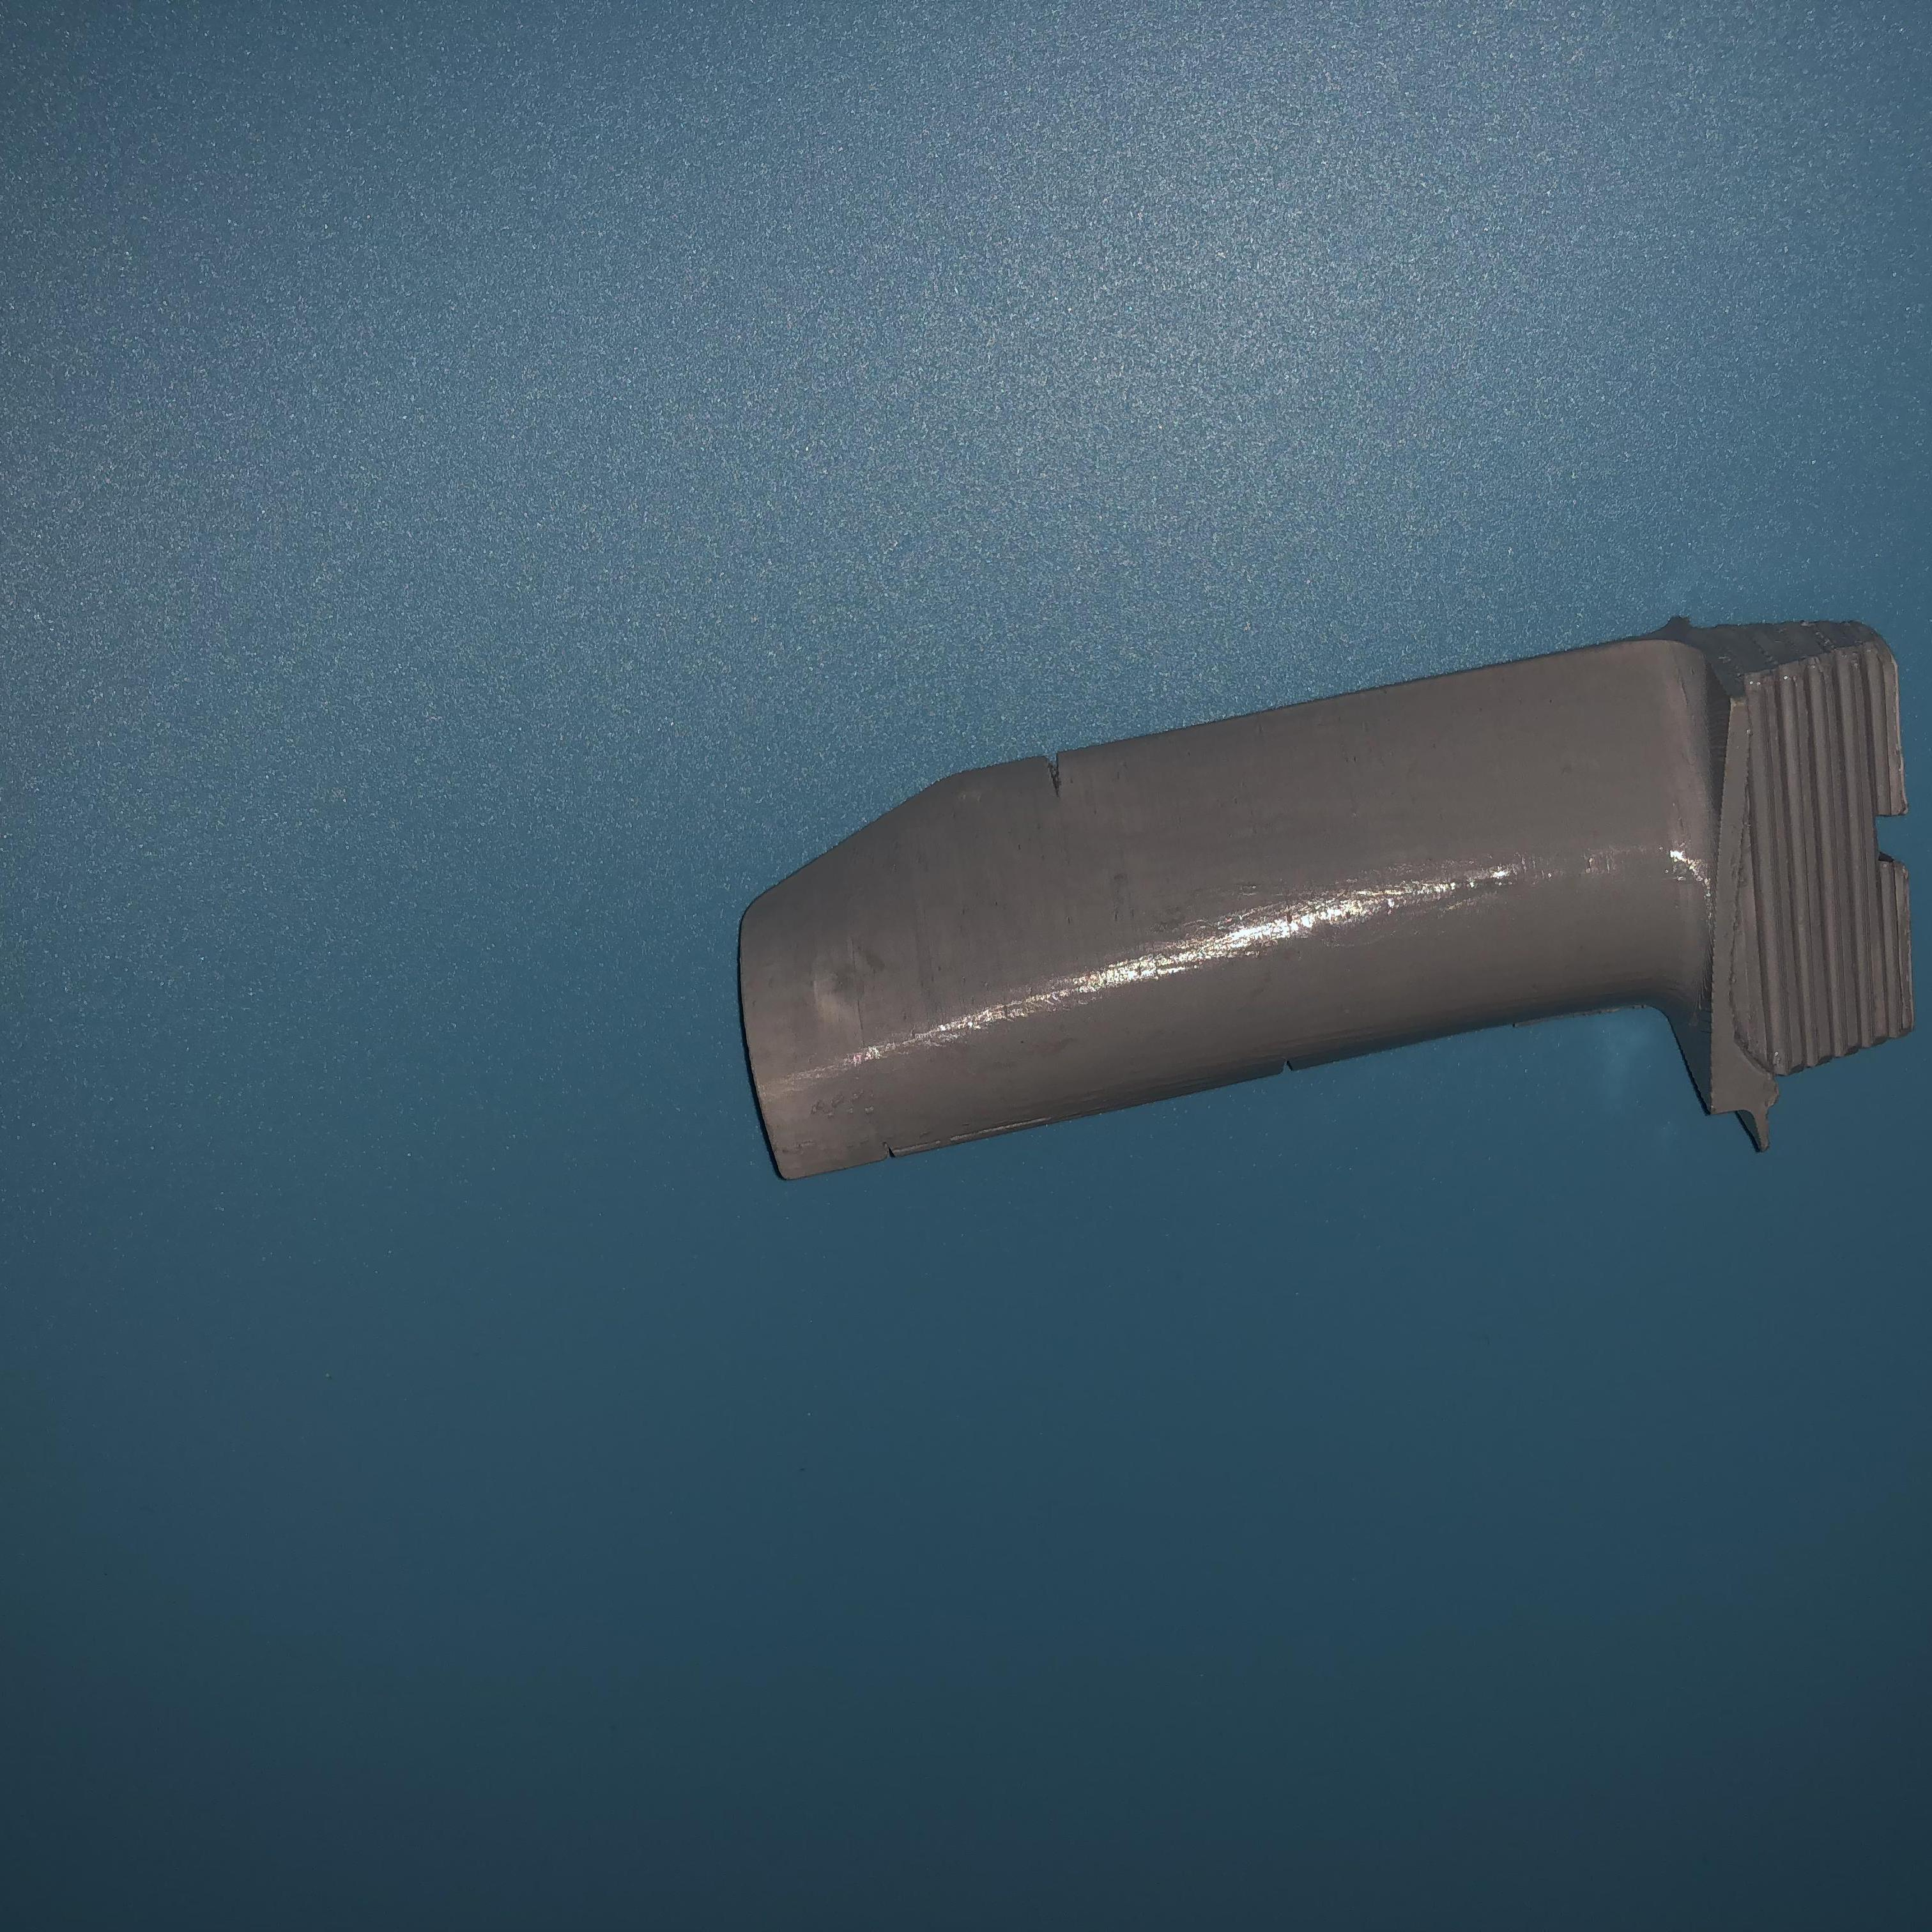groove: (1039, 752, 1083, 801), (874, 1131, 911, 1157), (1283, 1051, 1304, 1072)
